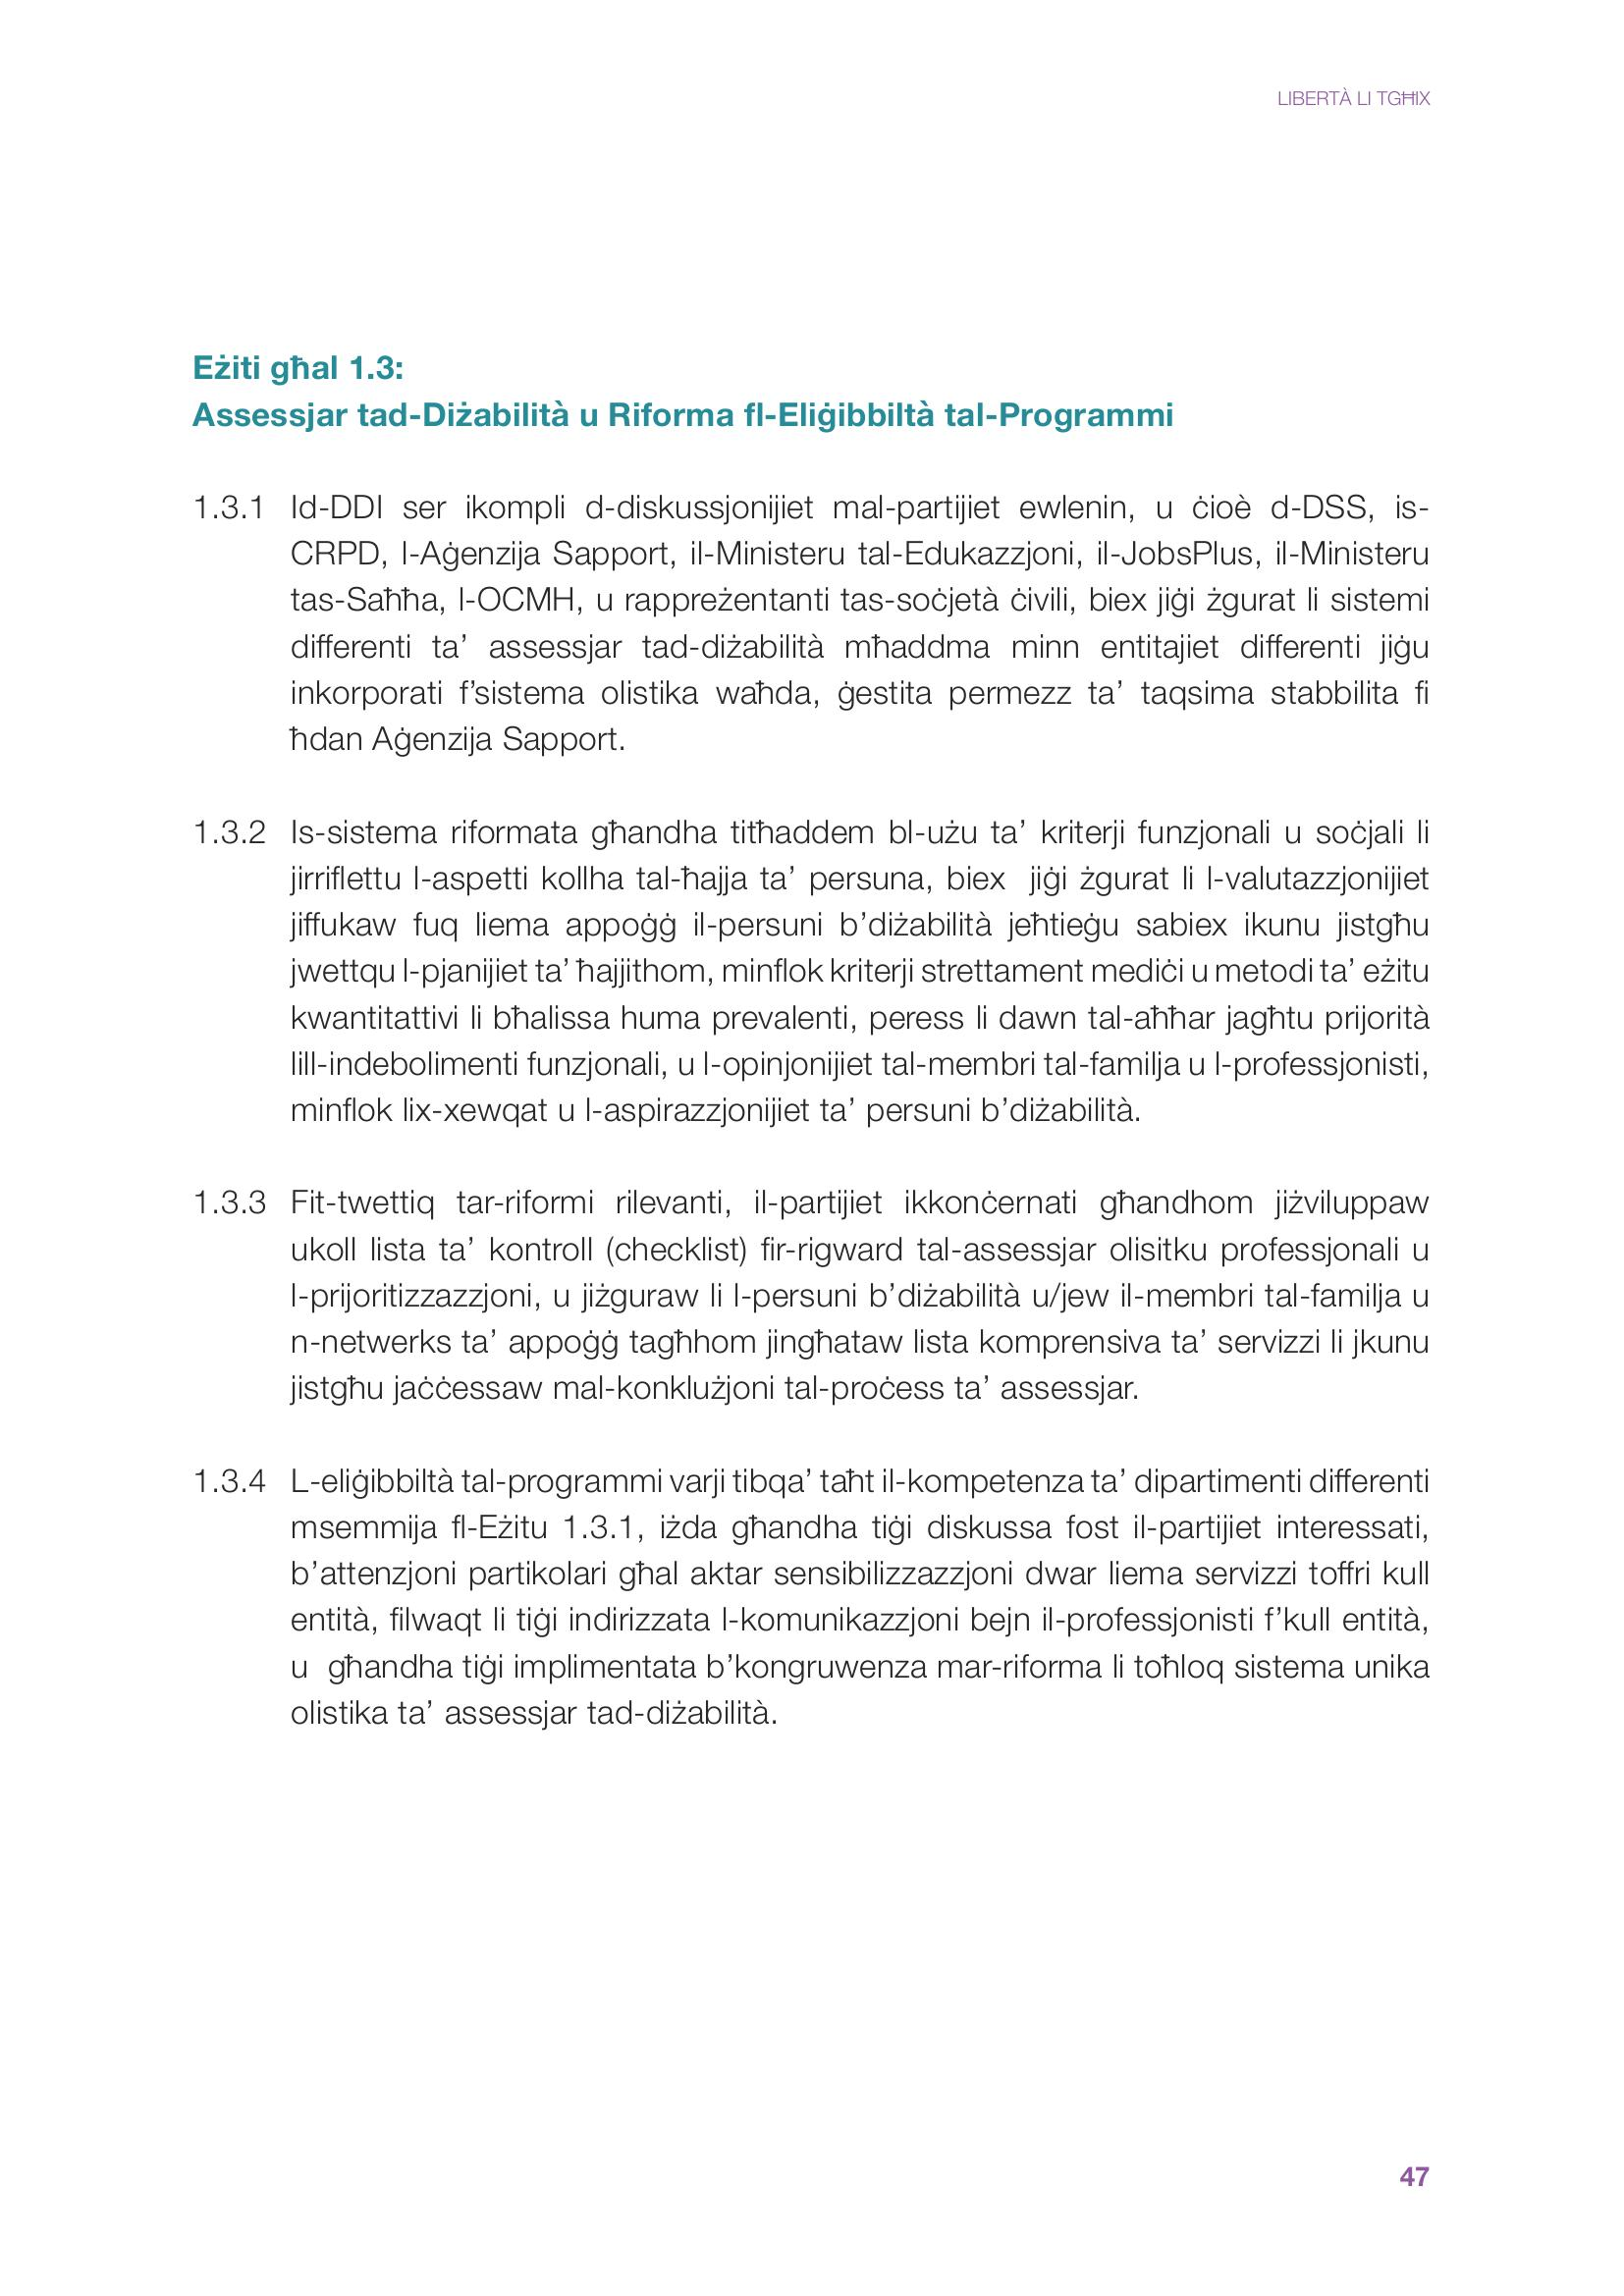text: (153, 329, 1496, 1773)
